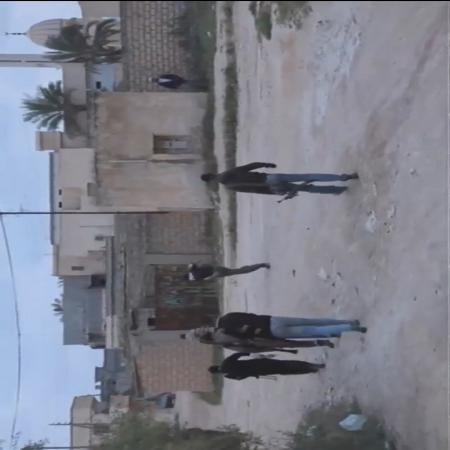Pistol: (275, 177, 322, 203)
